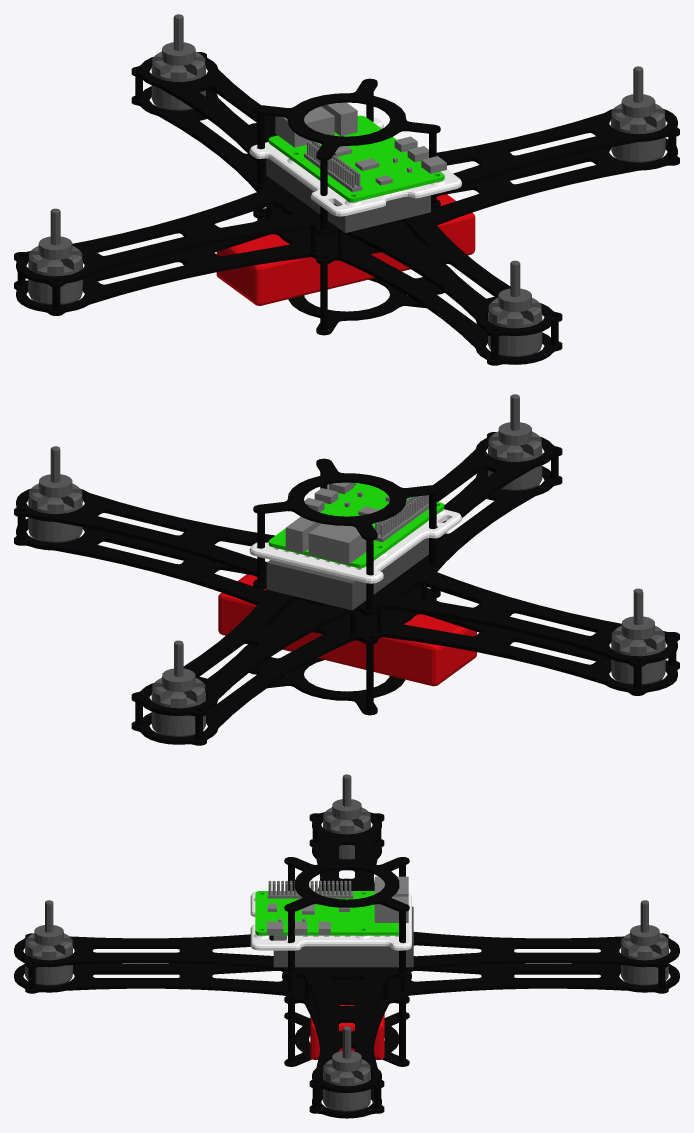
The model's file is colored_c2f_full.dae.
3 views of the same model, one above another, from view 1: azimuth 30°, elevation 25°; view 2: azimuth 150°, elevation 25°; view 3: azimuth 270°, elevation 25° (orthographic). The views are drawn at different scales.
Visible parts, largest first — view 1: Crazy2FlyAssembly AllCATPart body, Crazy2FlyAssembly AllCATPart motors, Crazy2FlyAssembly AllCATPart battery, Crazy2FlyAssembly AllCATPart piboard, Crazy2FlyAssembly AllCATPart pi features, Crazy2FlyAssembly AllCATPart pimount, Crazy2FlyAssembly AllCATPart pixhawk; view 2: Crazy2FlyAssembly AllCATPart body, Crazy2FlyAssembly AllCATPart motors, Crazy2FlyAssembly AllCATPart battery, Crazy2FlyAssembly AllCATPart pi features, Crazy2FlyAssembly AllCATPart pixhawk, Crazy2FlyAssembly AllCATPart pimount, Crazy2FlyAssembly AllCATPart piboard; view 3: Crazy2FlyAssembly AllCATPart body, Crazy2FlyAssembly AllCATPart motors, Crazy2FlyAssembly AllCATPart piboard, Crazy2FlyAssembly AllCATPart pi features, Crazy2FlyAssembly AllCATPart pixhawk, Crazy2FlyAssembly AllCATPart pimount, Crazy2FlyAssembly AllCATPart battery.
Part boxes in pixels (x1,y1,x2,y2): Crazy2FlyAssembly AllCATPart body: (14, 52, 679, 365); Crazy2FlyAssembly AllCATPart motors: (28, 14, 665, 356); Crazy2FlyAssembly AllCATPart battery: (216, 194, 475, 305); Crazy2FlyAssembly AllCATPart piboard: (268, 115, 444, 202); Crazy2FlyAssembly AllCATPart pi features: (275, 102, 446, 192); Crazy2FlyAssembly AllCATPart pimount: (249, 118, 461, 216); Crazy2FlyAssembly AllCATPart pixhawk: (266, 158, 430, 232); Crazy2FlyAssembly AllCATPart body: (14, 432, 679, 745); Crazy2FlyAssembly AllCATPart motors: (28, 394, 665, 736); Crazy2FlyAssembly AllCATPart battery: (218, 574, 476, 686); Crazy2FlyAssembly AllCATPart pi features: (285, 482, 428, 564); Crazy2FlyAssembly AllCATPart pixhawk: (266, 538, 428, 610); Crazy2FlyAssembly AllCATPart pimount: (249, 509, 461, 583); Crazy2FlyAssembly AllCATPart piboard: (268, 483, 444, 568); Crazy2FlyAssembly AllCATPart body: (14, 812, 679, 1118); Crazy2FlyAssembly AllCATPart motors: (25, 774, 668, 1111); Crazy2FlyAssembly AllCATPart piboard: (255, 891, 398, 935); Crazy2FlyAssembly AllCATPart pi features: (267, 876, 408, 935); Crazy2FlyAssembly AllCATPart pixhawk: (273, 906, 413, 967); Crazy2FlyAssembly AllCATPart pimount: (250, 891, 411, 950); Crazy2FlyAssembly AllCATPart battery: (310, 1005, 384, 1059).
Bounding box in the file's own units: 380 × 380 × 99.
